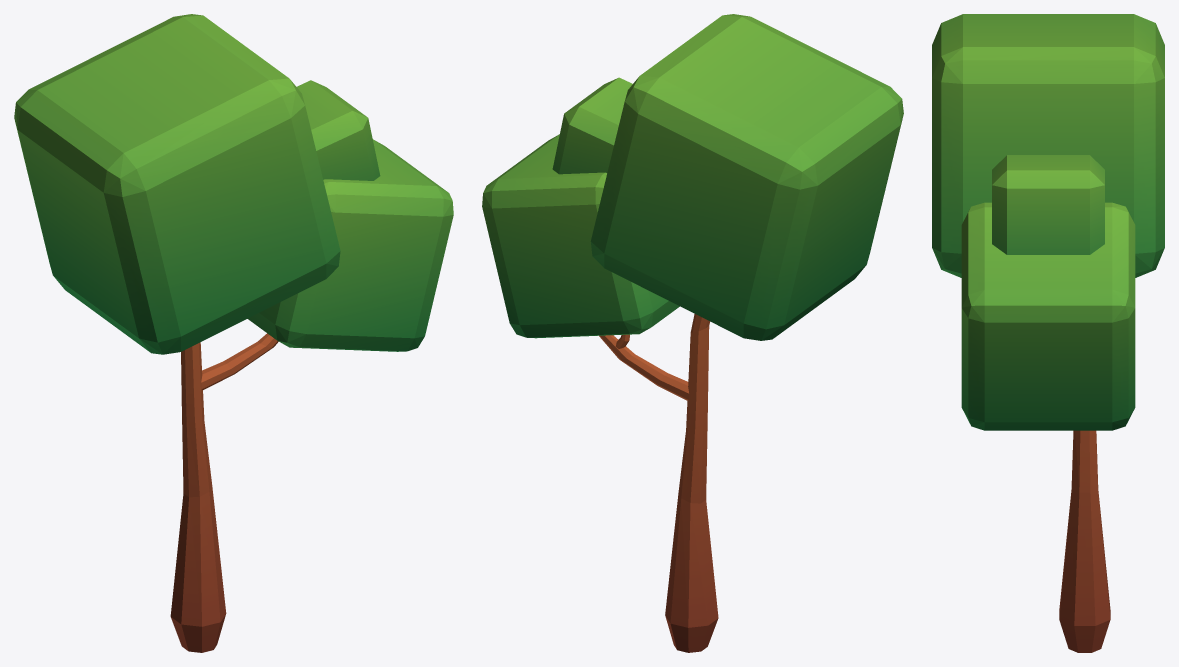
Rendered from kf_tree_2_b.fbx.
3 views of the same model, side by side, from view 1: azimuth 30°, elevation 25°; view 2: azimuth 150°, elevation 25°; view 3: azimuth 270°, elevation 25° (orthographic). The views are drawn at different scales.
Parts seen in each view (by area): view 1: kf_tree_2_b_LOD0; view 2: kf_tree_2_b_LOD0; view 3: kf_tree_2_b_LOD0.
Part boxes in pixels (left/top/right/bottom): kf_tree_2_b_LOD0: left=14, top=14, right=453, bottom=652; kf_tree_2_b_LOD0: left=482, top=14, right=903, bottom=652; kf_tree_2_b_LOD0: left=932, top=14, right=1164, bottom=652.
Size of what is drawn, in the model's own units: 4.26 by 6.95 by 2.41.
